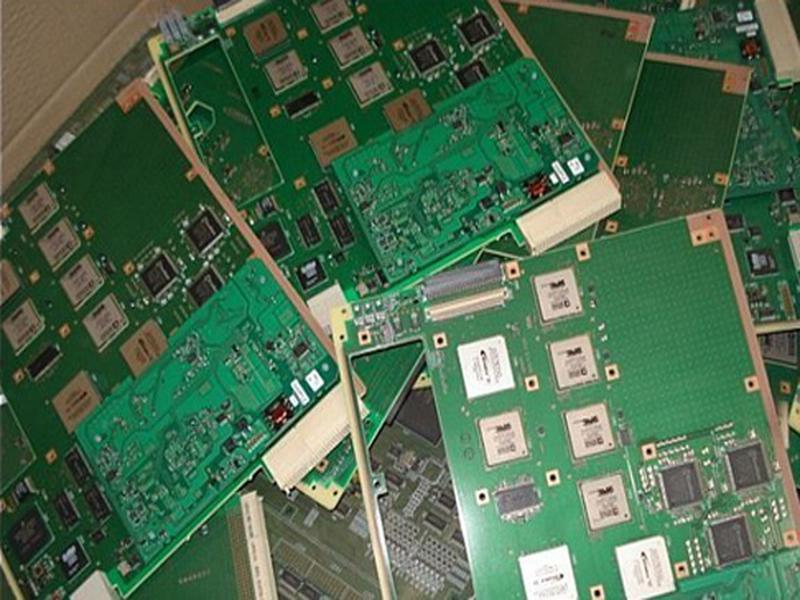circuit_board: (310, 207, 800, 600), (1, 77, 343, 600), (130, 3, 628, 294)
